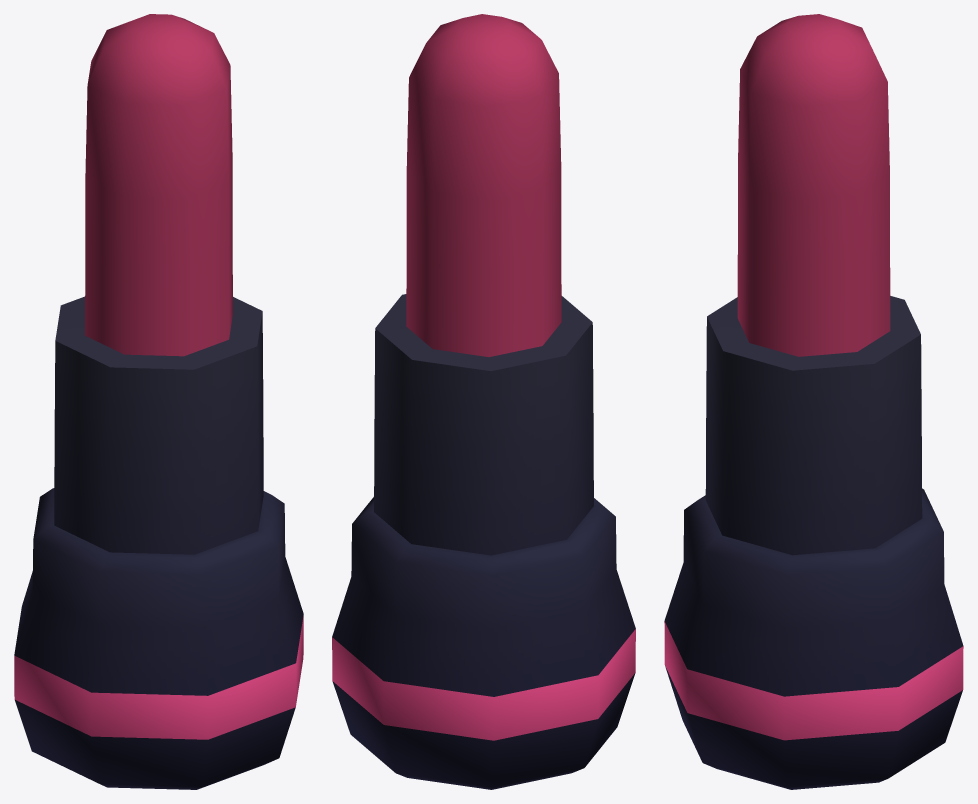
Rendered from Lipstick_02.fbx.
3 views of the same model, side by side, from view 1: azimuth 30°, elevation 25°; view 2: azimuth 150°, elevation 25°; view 3: azimuth 270°, elevation 25° (orthographic).
Visible parts, largest first — view 1: Lipstick_02; view 2: Lipstick_02; view 3: Lipstick_02.
Part boxes in pixels (x1,y1,x2,y2): Lipstick_02: (14,14,303,789); Lipstick_02: (332,14,635,789); Lipstick_02: (664,14,963,789).
Size of the model in its own units: 0.0389 by 0.1031 by 0.0389.
1 material, 1 textured.
